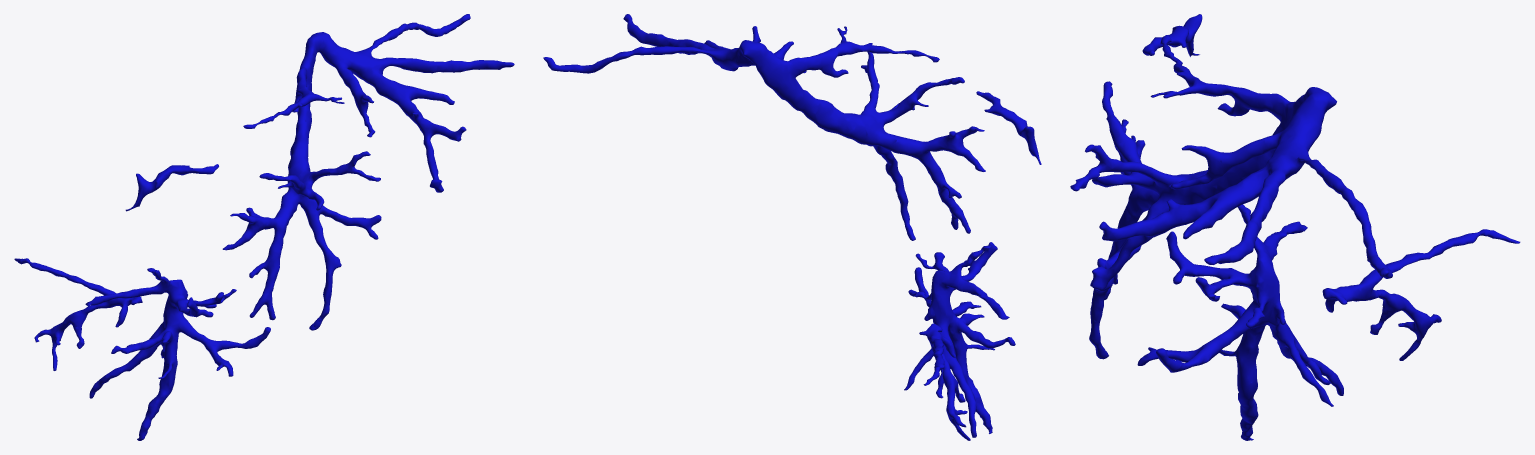
3 renders of one model, left to right at view 1: azimuth 30°, elevation 25°; view 2: azimuth 150°, elevation 25°; view 3: azimuth 270°, elevation 25°, orthographic. The views are drawn at different scales.
Visible parts, largest first — view 1: Polygonal_Model_14_Triangles_0; view 2: Polygonal_Model_14_Triangles_0; view 3: Polygonal_Model_14_Triangles_0.
Part boxes in pixels (x1,y1,x2,y2): Polygonal_Model_14_Triangles_0: [14, 14, 514, 440]; Polygonal_Model_14_Triangles_0: [543, 14, 1041, 440]; Polygonal_Model_14_Triangles_0: [1070, 14, 1520, 440].
Size of the model in its own units: 7.93 by 6.14 by 5.08.
